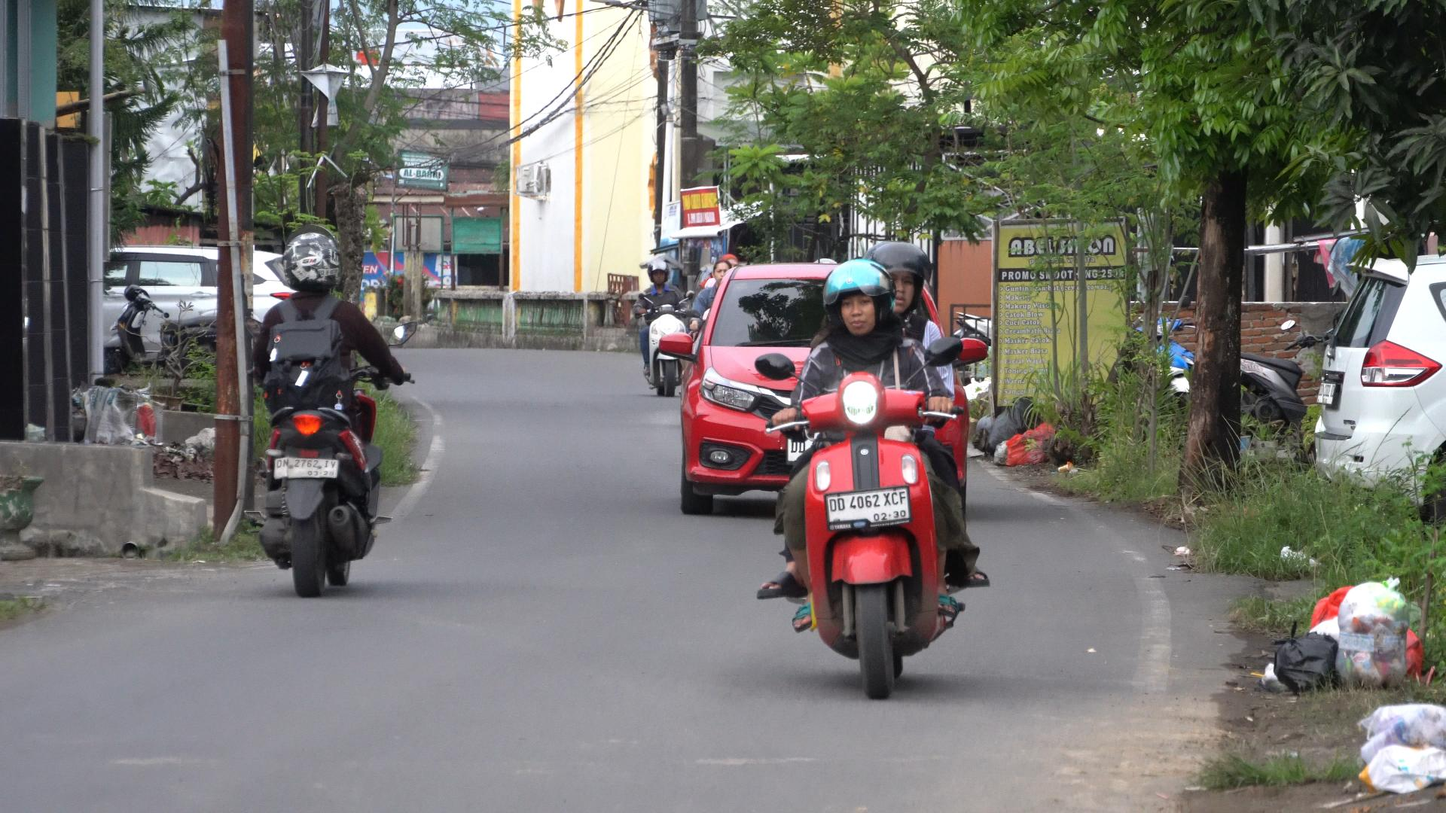number-plate: (822, 488, 914, 533)
